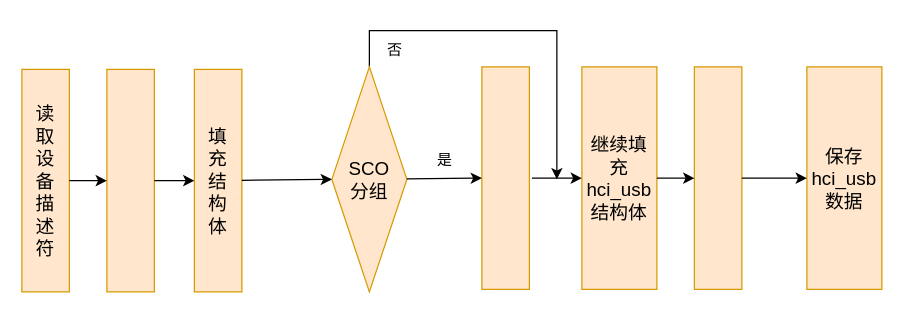
Image size: 904x314. Some labels were removed from this diagram. The box of each missing label's shape, as (x1, y1, x2, y2) in pixels:
初始化并注册HCI设备: (693, 66, 742, 289)
访问接口0的端点: (106, 68, 154, 292)
配置同步点: (481, 66, 529, 289)
